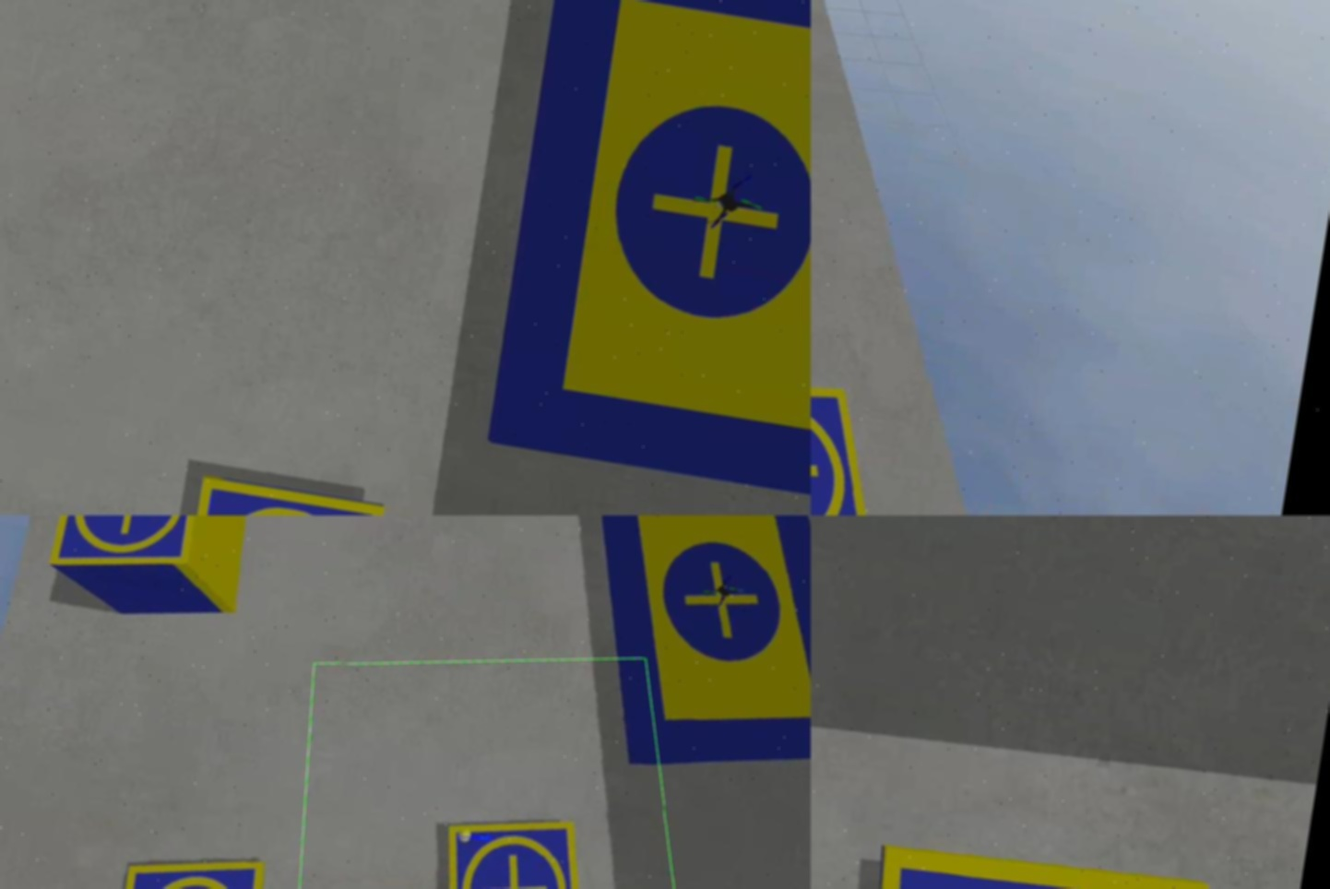large_base: (485, 1, 812, 495), (550, 516, 812, 797)
small_base: (851, 830, 1245, 889), (428, 802, 607, 889), (45, 516, 211, 594), (812, 363, 888, 516), (179, 473, 386, 516), (122, 839, 274, 889)
